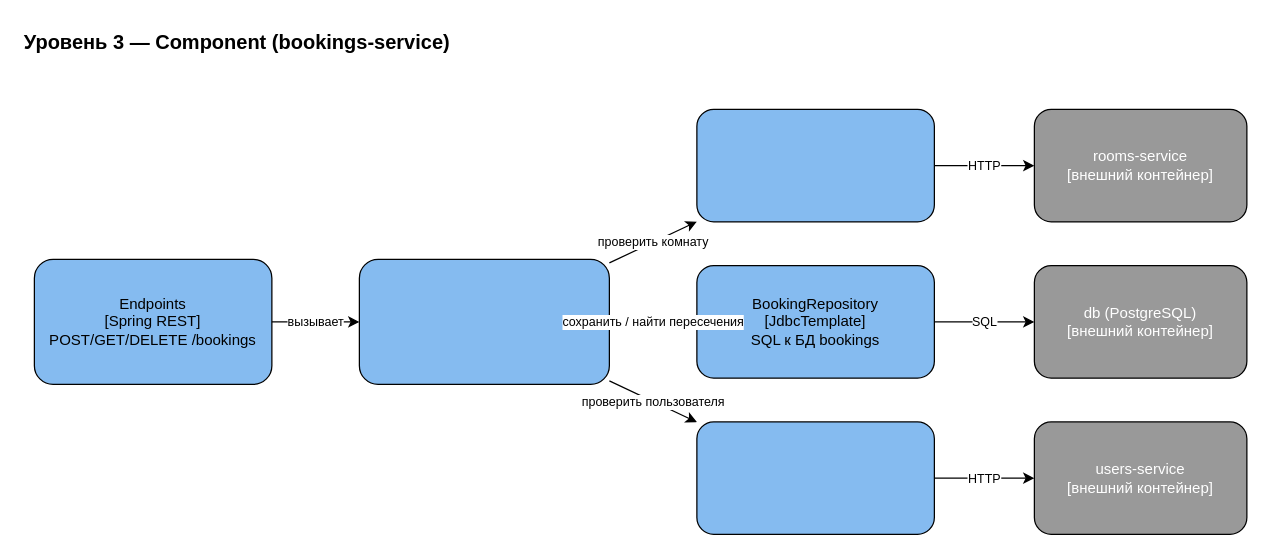
This 1269x556 diagram has some shape labels left out. The shapes that lost their labels are listed below. From the top down, each one's centre as x and y in pixels, then its label:
point 815,165: RoomsClient [RestClient] GET rooms-service
point 483,321: Booking Validator [логика] Проверка времени и конфликтов
point 815,477: UsersClient [RestClient] GET users-service
